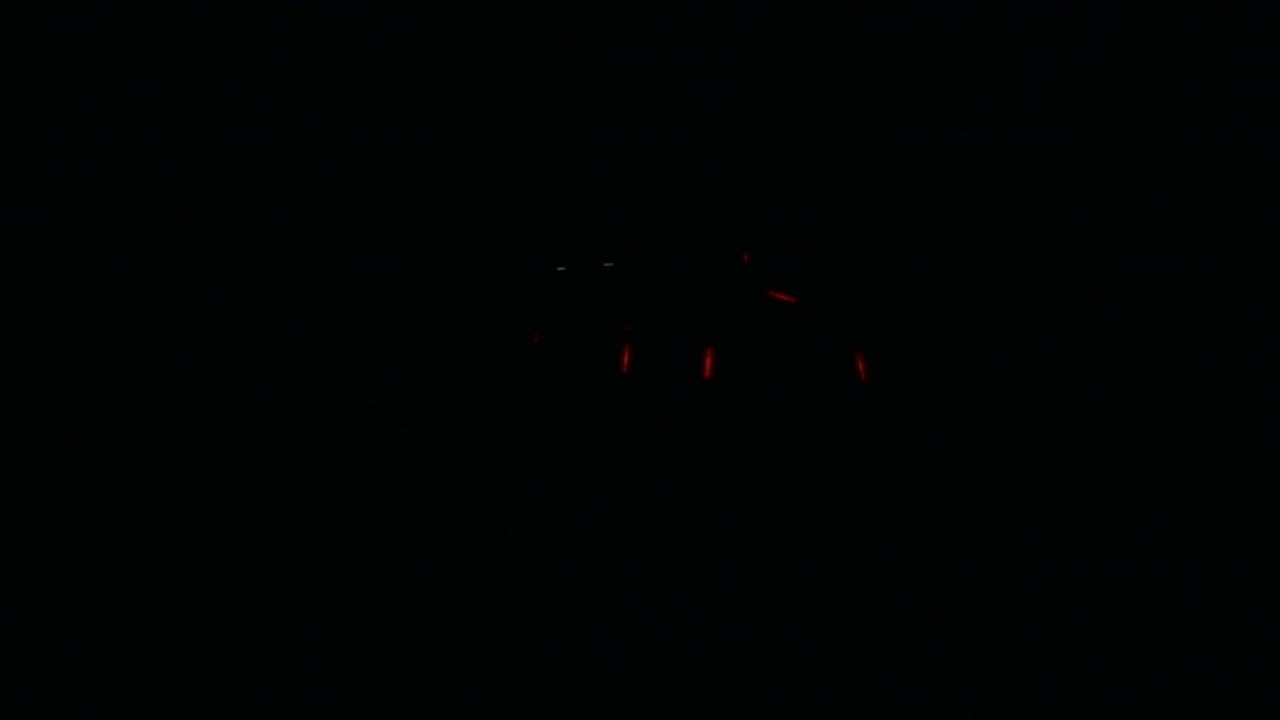lamp: (696, 345, 716, 381), (617, 343, 629, 381), (857, 347, 868, 388)
notpair1: (697, 347, 870, 388)
pair1: (619, 345, 713, 380)
